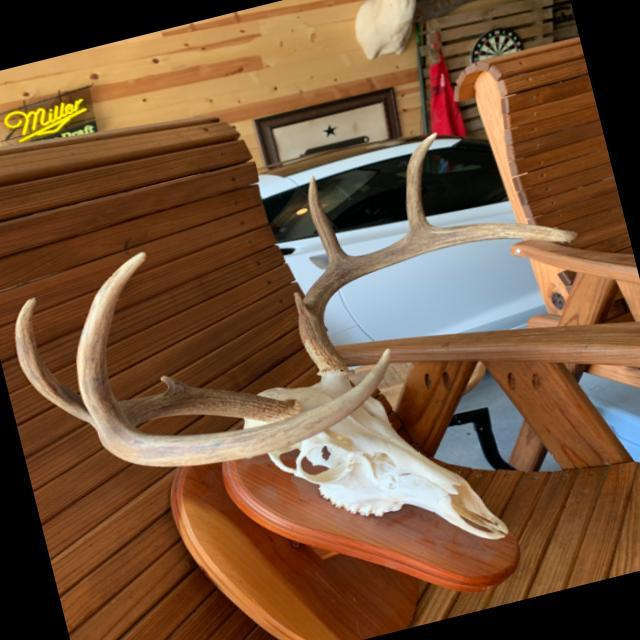L-F: (299, 222, 577, 371)
L-G1: (293, 291, 306, 317)
L-G2: (307, 174, 349, 267)
L-G3: (405, 132, 437, 235)
R-G2: (76, 251, 146, 449)
